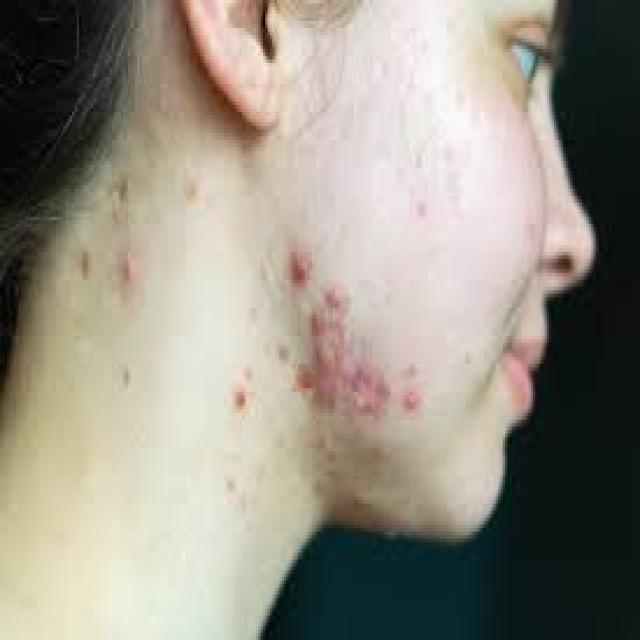Acne: (310, 305, 353, 411), (350, 359, 392, 425), (290, 249, 316, 290), (293, 362, 317, 399), (119, 251, 141, 288), (324, 285, 348, 314), (402, 387, 423, 418), (233, 386, 251, 415)
